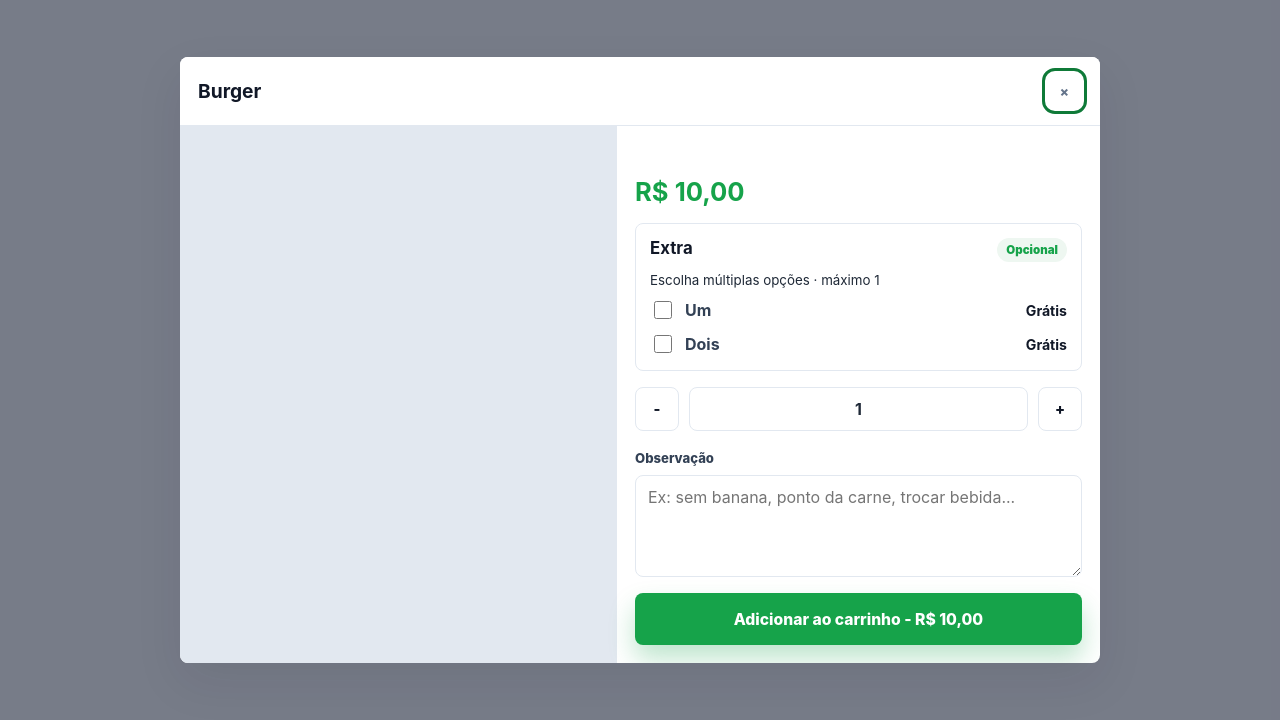
it: componentes criticos › ProductModal impede selecao acima do maximo
Click the checkbox labelled "Um Grátis" at (663, 310), box left=654, top=301, right=672, bottom=319
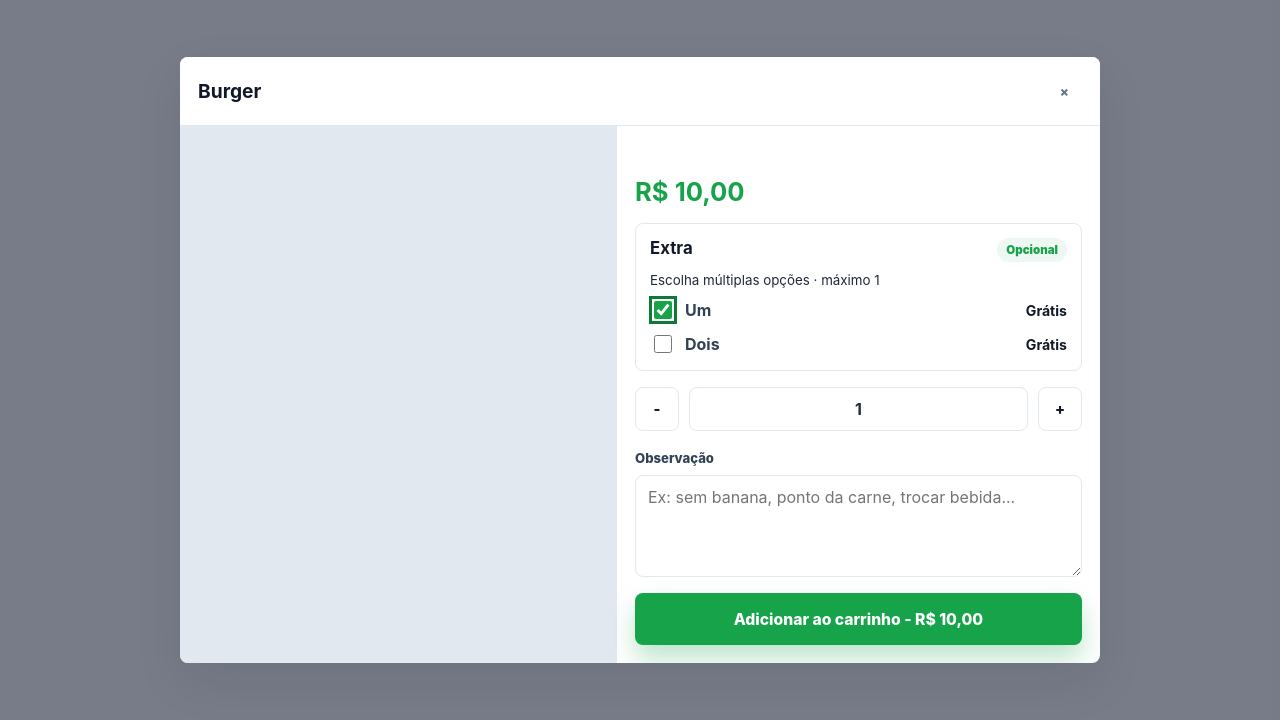
Click the checkbox labelled "Dois Grátis" at (663, 344), box left=654, top=335, right=672, bottom=353
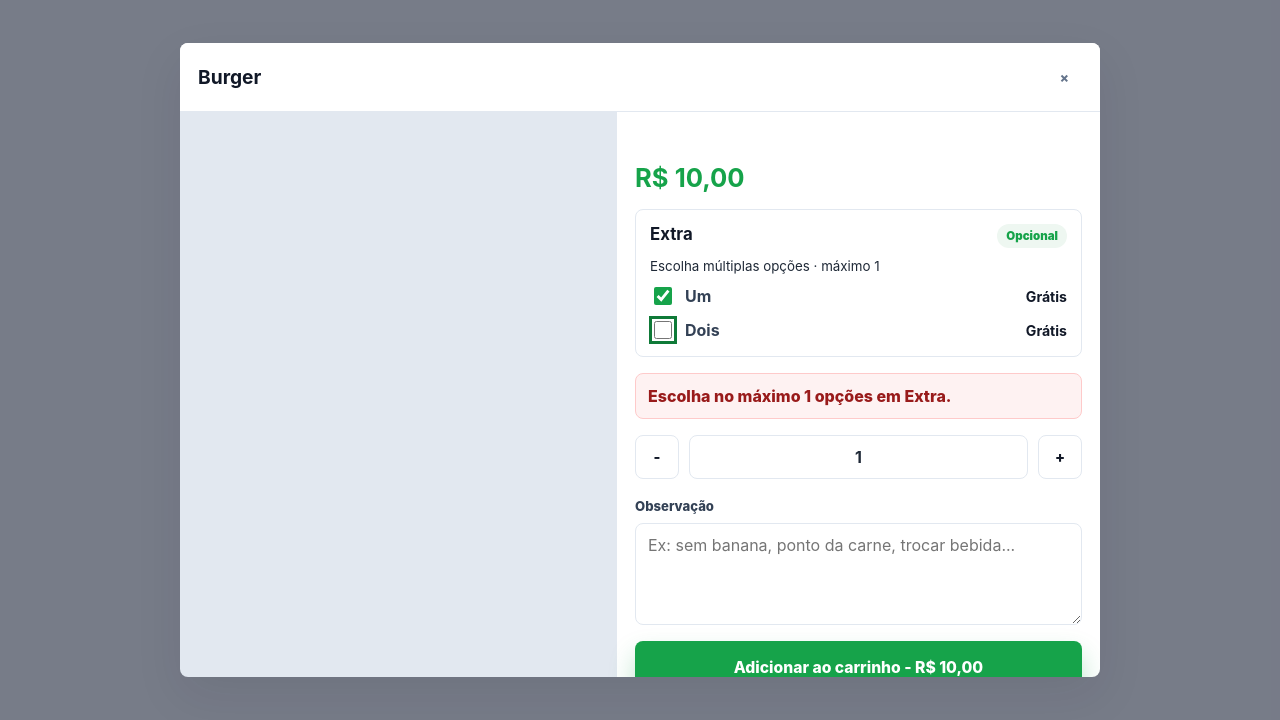
Expected: the checkbox labelled "Dois Grátis" is not checked, left=654, top=321, right=672, bottom=339
Now the checkbox labelled "Um Grátis" is checked, box left=654, top=287, right=672, bottom=305
Now the text "Escolha no máximo 1 opções em Extra." is shown, box left=635, top=373, right=1082, bottom=419
